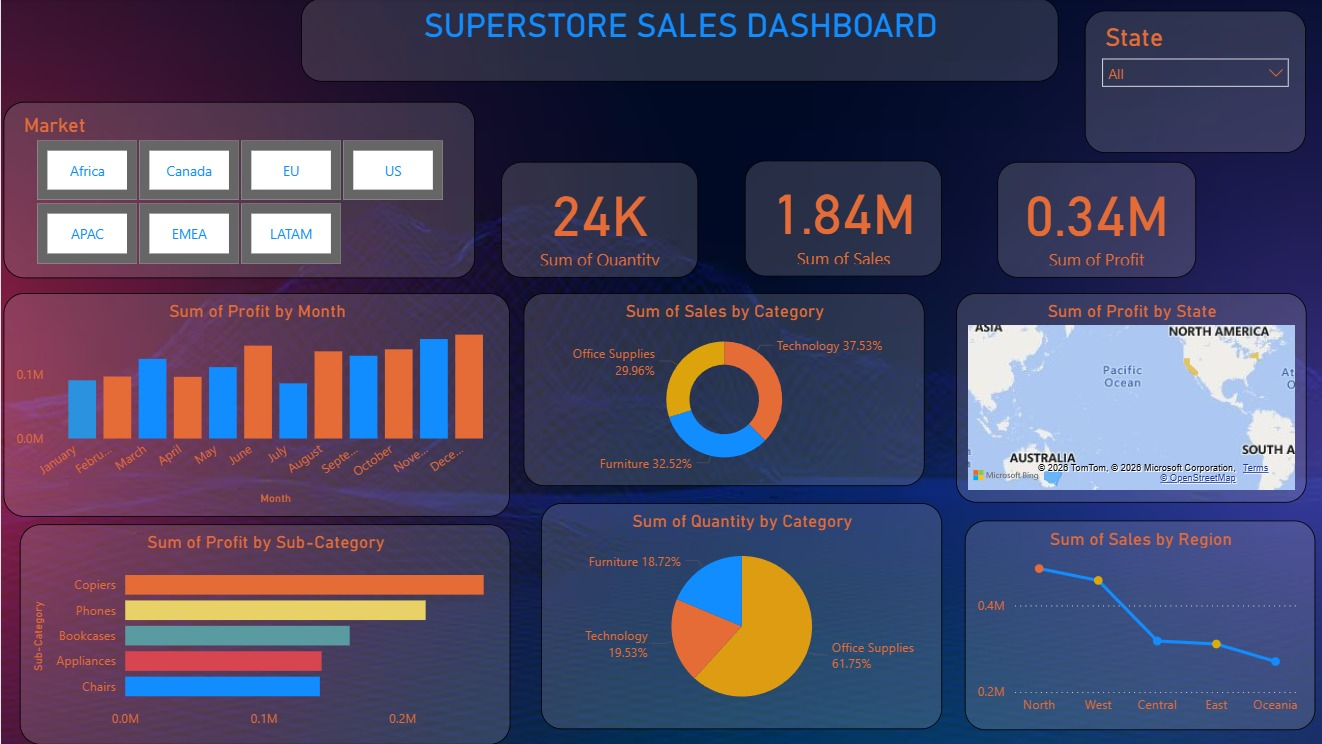

The page's visual inventory and layout, read from the dashboard file:
{"tool":"powerbi","page":{"name":"restuarant and orders","canvas":[1280,720],"ordinal":0},"visuals":[{"type":"textbox","title":"SUPERSTORE SALES DASHBOARD","box":[289.5,0,731.1,80.8],"z":0},{"type":"columnChart","fields":{"Y":["Sum(Global-Superstore.Profit)"],"Category":["Global-Superstore.Order Date.Variation.Date Hierarchy.Month"]},"box":[2.5,285,488.8,216.2],"z":1000},{"type":"clusteredBarChart","fields":{"Category":["Global-Superstore.Sub-Category"],"Y":["Sum(Global-Superstore.Profit)"]},"box":[17.5,507.5,473.8,212.5],"z":2000},{"type":"donutChart","fields":{"Category":["Global-Superstore.Category"],"Y":["Sum(Global-Superstore.Sales)"]},"box":[503.8,285,387.5,186.2],"z":3000},{"type":"pieChart","fields":{"Y":["Sum(Global-Superstore.Quantity)"],"Category":["Global-Superstore.Category"]},"box":[521.2,487.5,387.5,218.8],"z":4000},{"type":"filledMap","fields":{"Category":["Global-Superstore.State"]},"box":[921.2,285,338.8,202.5],"z":5000},{"type":"card","fields":{"Values":["Sum(Global-Superstore.Quantity)"]},"box":[482.6,158,190.6,112.2],"z":6000},{"type":"card","fields":{"Values":["Sum(Global-Superstore.Sales)"]},"box":[717.8,156.8,190.6,112.2],"z":7000},{"type":"card","fields":{"Values":["Sum(Global-Superstore.Profit)"]},"box":[961.5,158,191.8,112.2],"z":8000},{"type":"lineChart","fields":{"Category":["Global-Superstore.Region"],"Y":["Sum(Global-Superstore.Sales)"]},"box":[930,503.8,338.8,202.5],"z":9000},{"type":"slicer","fields":{"Values":["Global-Superstore.Market"]},"box":[2.5,100,455,170],"z":10000},{"type":"slicer","fields":{"Values":["Global-Superstore.State"]},"box":[1046.2,12.5,213.8,137.5],"z":11000}]}

Visuals, with their boxes in screenshot pixels (x1, y1, x2, y2), scaled from the page's 1280x720 canvas onto the 1322x744 screenshot:
"SUPERSTORE SALES DASHBOARD" textbox: [299, 0, 1054, 83]
columnChart - Sum(Global-Superstore.Profit) x Global-Superstore.Order Date.Variation.Date Hierarchy.Month: [3, 295, 507, 518]
clusteredBarChart - Global-Superstore.Sub-Category x Sum(Global-Superstore.Profit): [18, 524, 507, 743]
donutChart - Global-Superstore.Category x Sum(Global-Superstore.Sales): [520, 295, 921, 487]
pieChart - Sum(Global-Superstore.Quantity) x Global-Superstore.Category: [538, 504, 939, 730]
filledMap - Global-Superstore.State: [951, 295, 1301, 504]
card - Sum(Global-Superstore.Quantity): [498, 163, 695, 279]
card - Sum(Global-Superstore.Sales): [741, 162, 938, 278]
card - Sum(Global-Superstore.Profit): [993, 163, 1191, 279]
lineChart - Global-Superstore.Region x Sum(Global-Superstore.Sales): [961, 521, 1310, 730]
slicer - Global-Superstore.Market: [3, 103, 473, 279]
slicer - Global-Superstore.State: [1081, 13, 1301, 155]
